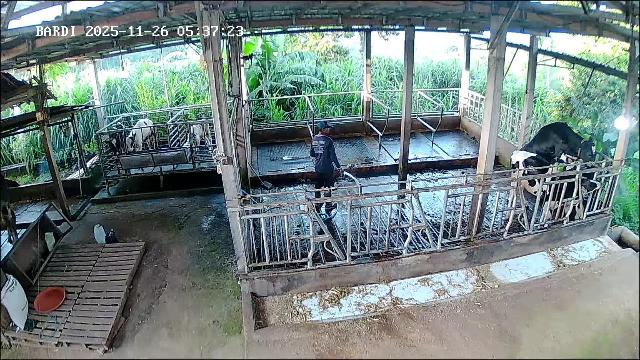mounting: (519, 120, 596, 168)
